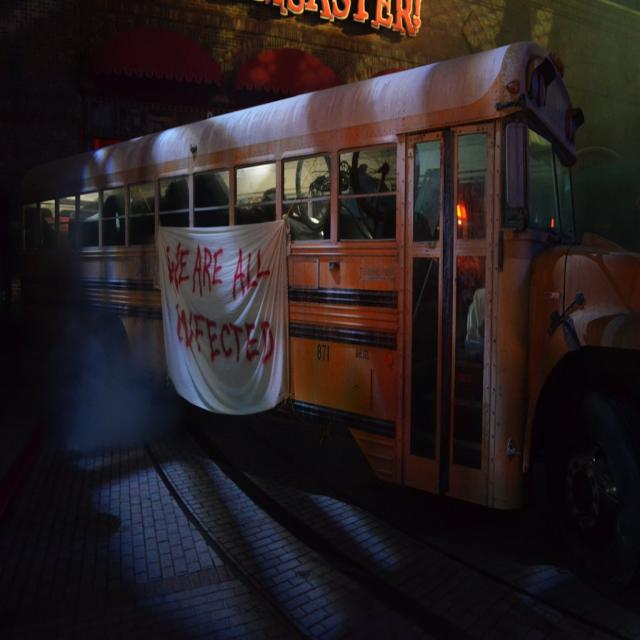Bus: (0, 18, 640, 592)
